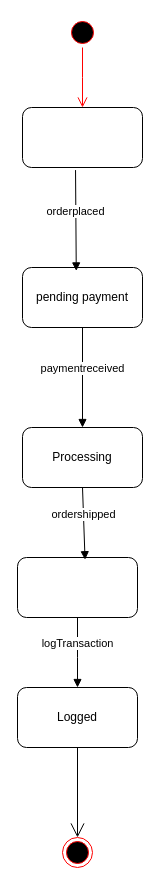
The diagram is 160 pixels wide and 885 high, and some of its shapes have lost their labels. The centre of each missing label's shape, as x and y in pixels:
Completed: the point at 77,587
New order: the point at 82,137
